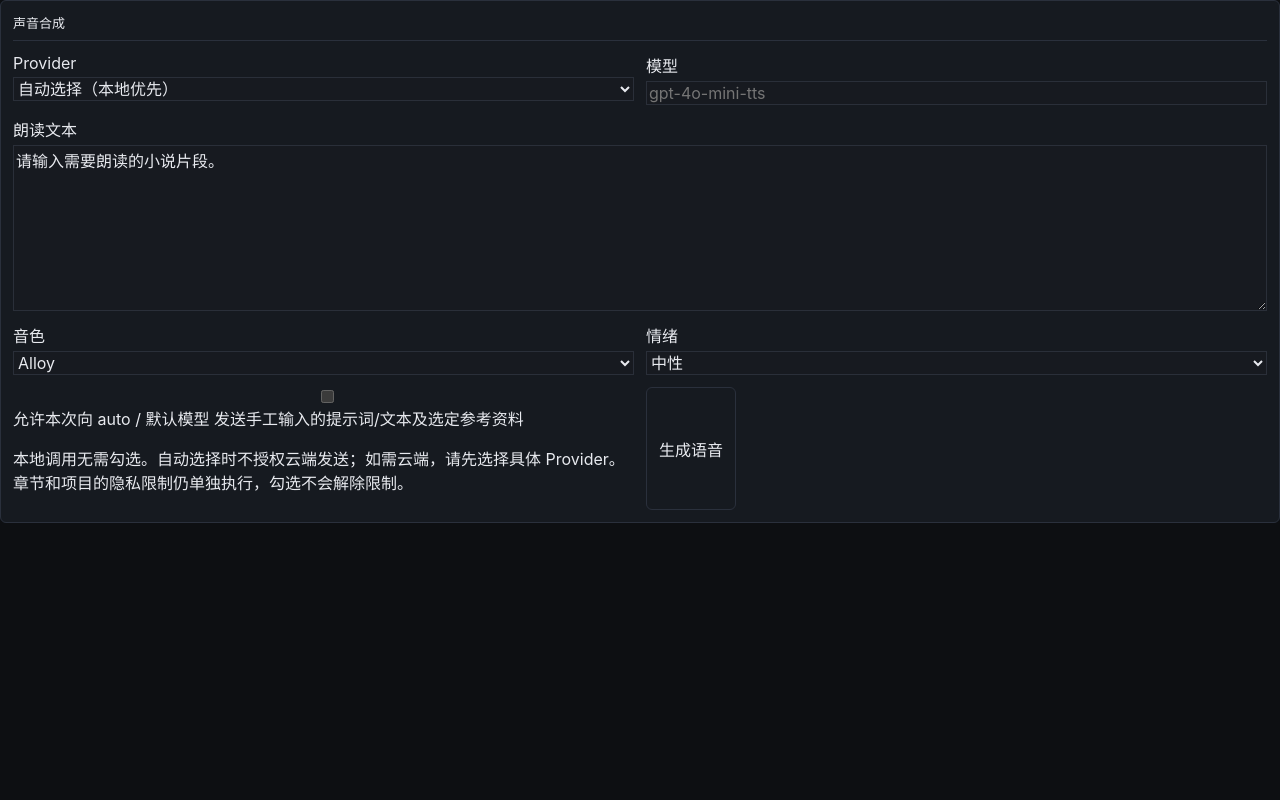
Test case: publishes speech lifecycle and a minimal inspector contract
Click the button "生成语音". click: click(691, 448)
box: [646,387,736,510]
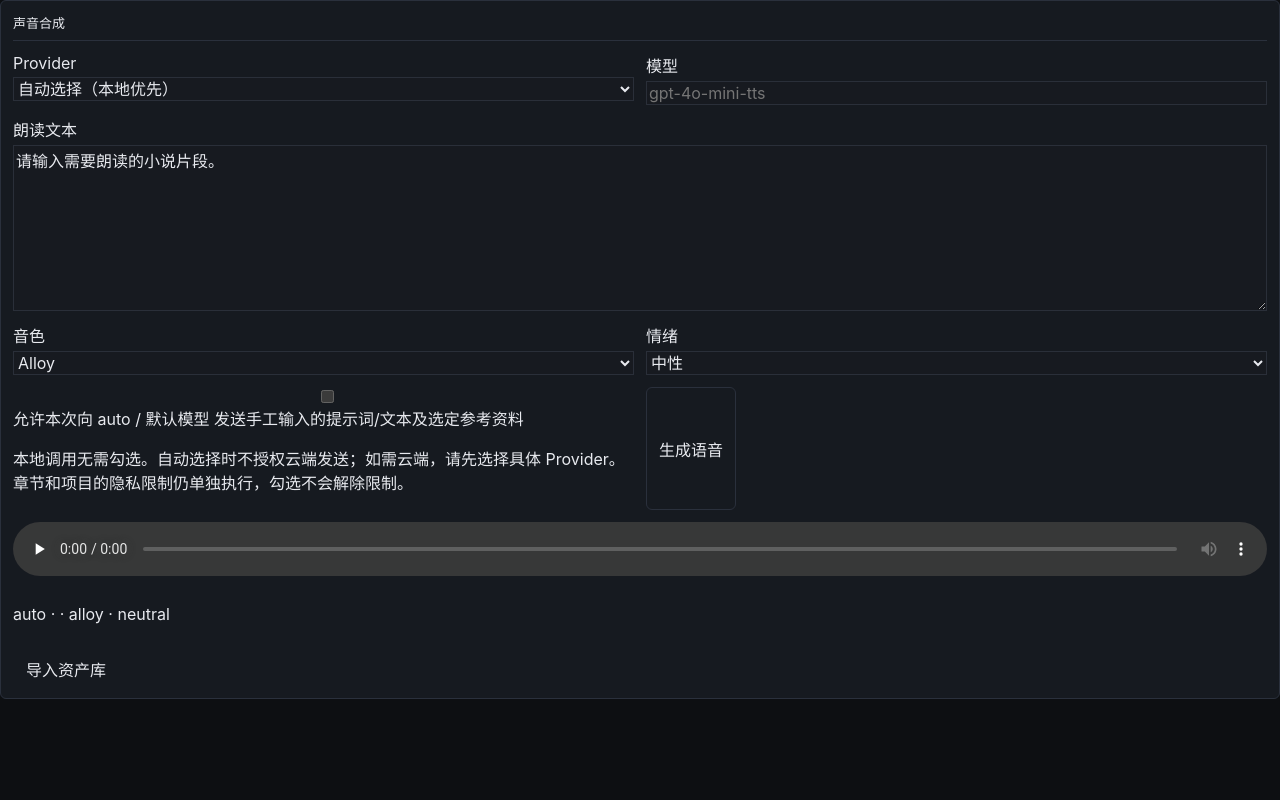
Result: the element named "当前语音生成结果" is shown at [13,522,1267,576]
